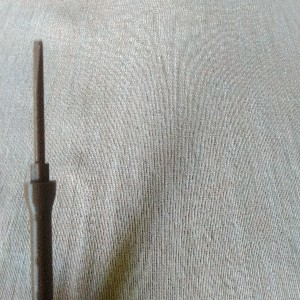obeng: (24, 39, 57, 300)
